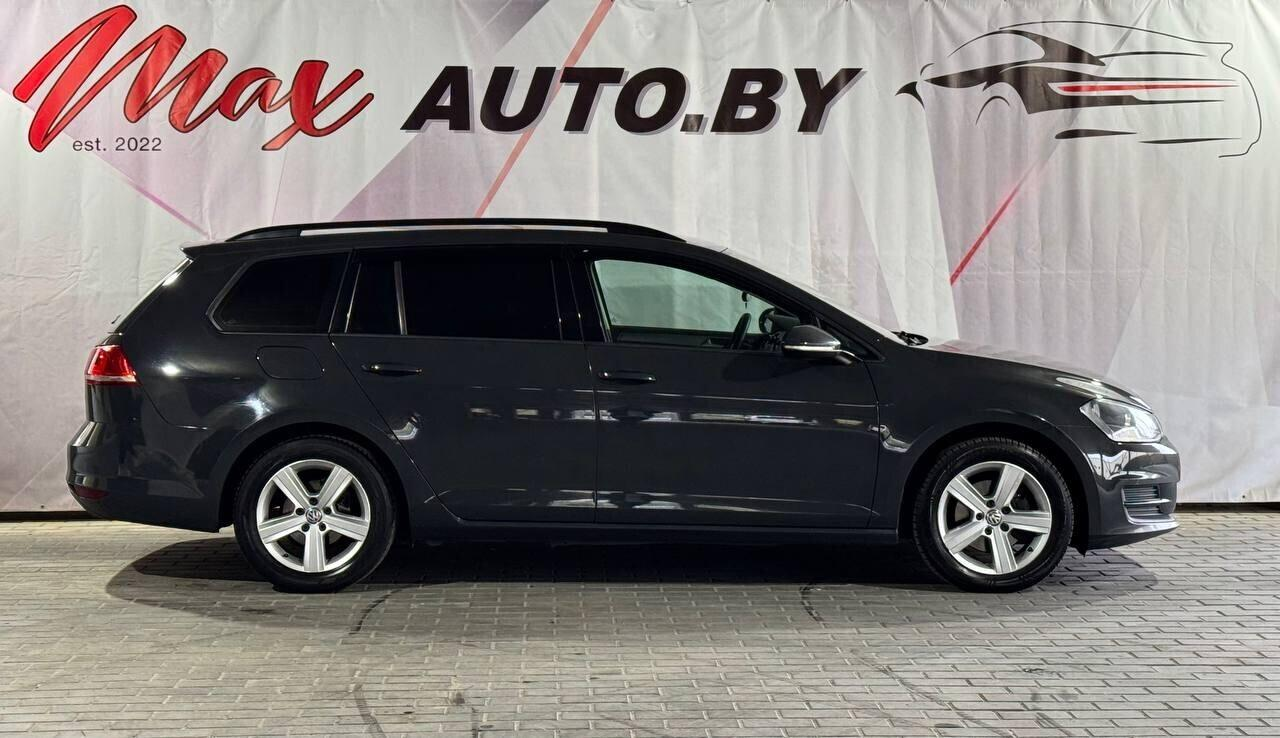Golf_2012-2017: (60, 215, 1194, 598)
